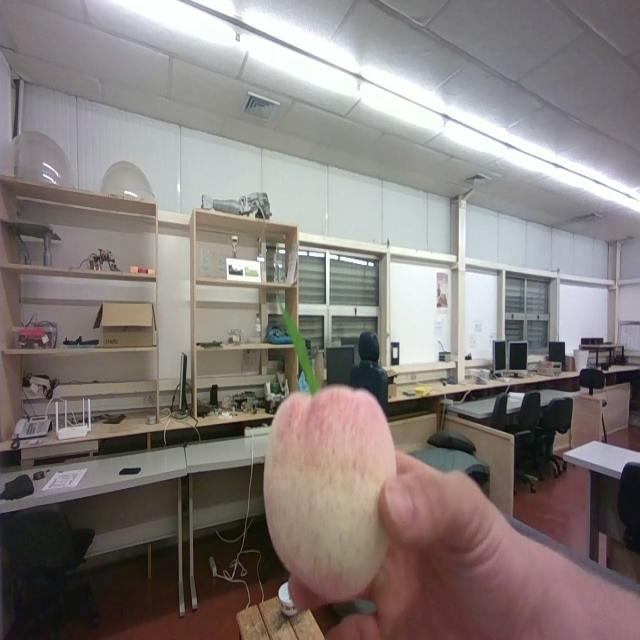peach: (264, 387, 396, 602)
